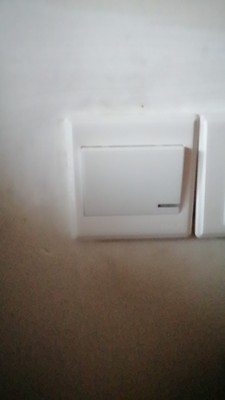switch: (76, 147, 187, 214)
